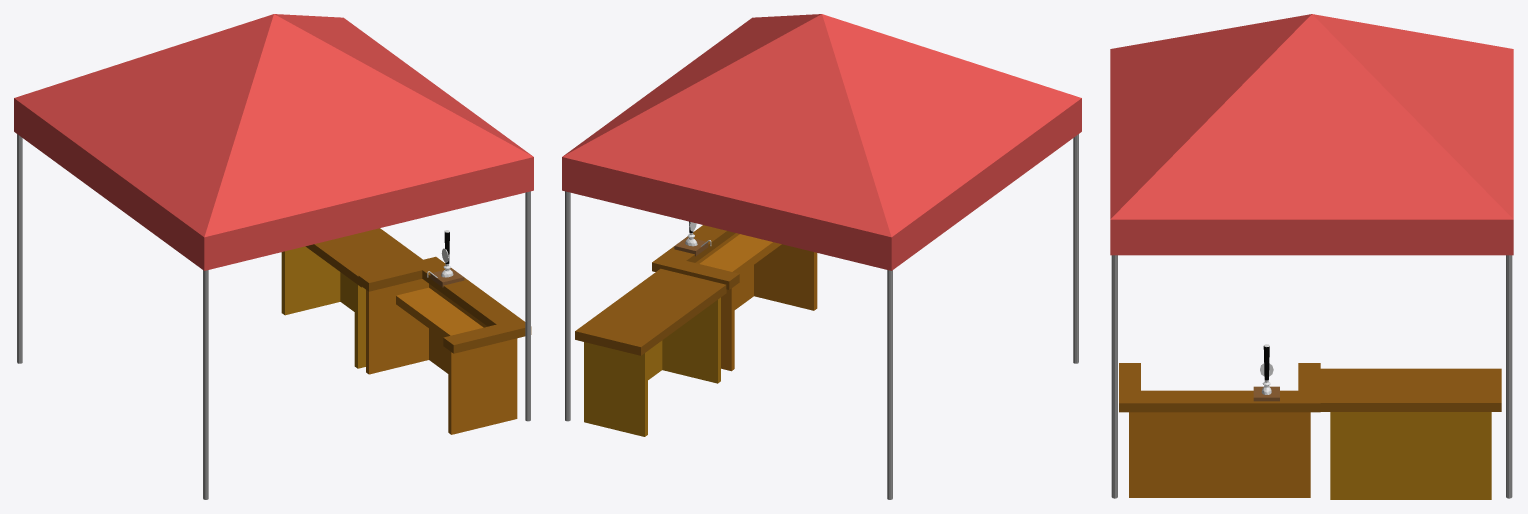
File: Stall.fbx
The picture shows the model from 3 angles, left to right: view 1: azimuth 30°, elevation 25°; view 2: azimuth 150°, elevation 25°; view 3: azimuth 270°, elevation 25°; orthographic projection. The views are drawn at different scales.
Parts seen in each view (by area): view 1: Canopy, Cube, Table.001, Cube.001, Poles, Cube.002; view 2: Canopy, Table.001, Cube, Poles, Cube.001, Cube.002; view 3: Canopy, Table.001, Cube, Cube.001, Poles.
Boxes of the visible parts, x1,y1,x2,y2 form: Canopy: [14, 14, 533, 270]; Cube: [366, 279, 517, 434]; Table.001: [281, 228, 422, 368]; Cube.001: [358, 256, 531, 353]; Poles: [17, 134, 530, 499]; Cube.002: [396, 287, 483, 338]; Canopy: [562, 14, 1081, 270]; Table.001: [575, 268, 726, 436]; Cube: [695, 233, 817, 371]; Poles: [565, 134, 1078, 499]; Cube.001: [652, 225, 739, 289]; Cube.002: [699, 234, 781, 274]; Canopy: [1110, 14, 1513, 255]; Table.001: [1320, 368, 1501, 499]; Cube: [1129, 412, 1310, 497]; Cube.001: [1119, 363, 1320, 412]; Poles: [1111, 255, 1512, 498].
Size of the model in its own units: 402 by 445 by 400.
